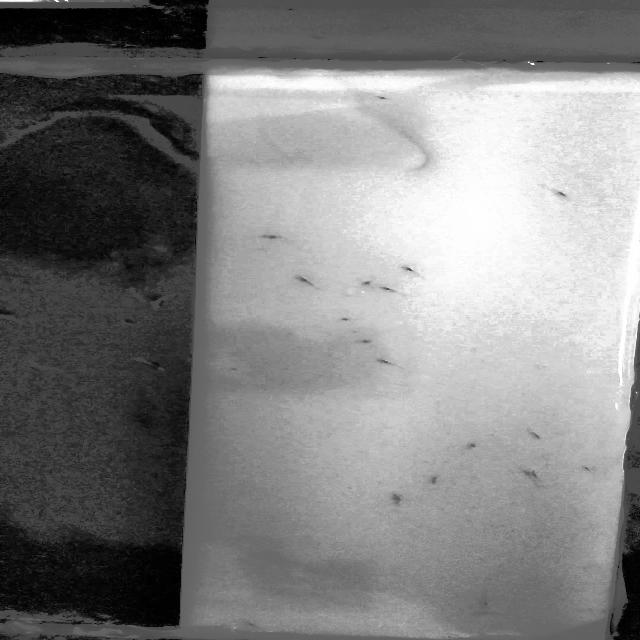shrimp: (289, 271, 317, 291), (397, 265, 436, 279), (534, 188, 575, 200), (352, 338, 393, 348), (474, 588, 494, 608), (457, 437, 483, 451), (414, 471, 441, 484), (330, 314, 359, 326), (382, 491, 408, 503), (354, 275, 376, 289), (470, 610, 506, 618), (255, 232, 281, 242), (366, 358, 392, 368), (376, 286, 411, 293), (526, 473, 547, 483), (526, 432, 547, 442), (243, 622, 266, 631), (576, 463, 592, 472)
